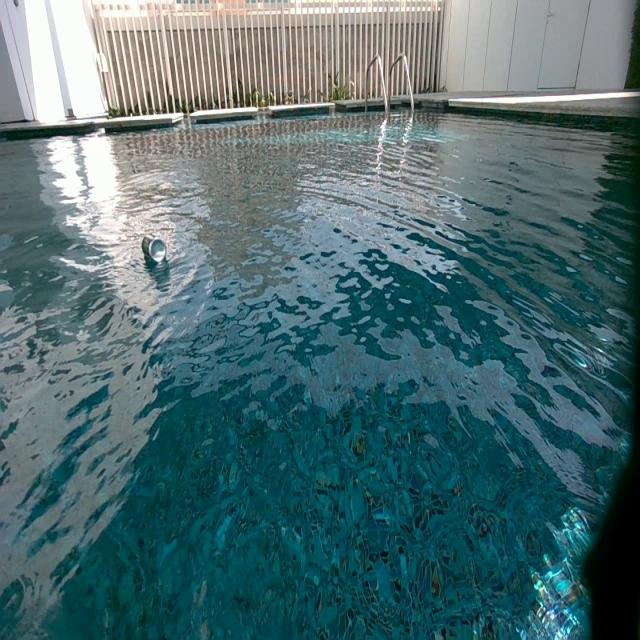Cans: (142, 237, 167, 264)
